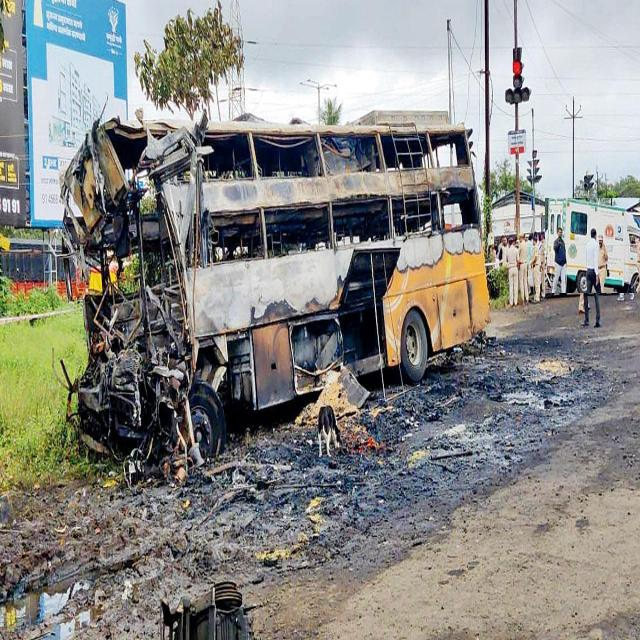accident: (60, 111, 490, 461)
emergency: (545, 198, 640, 293)
